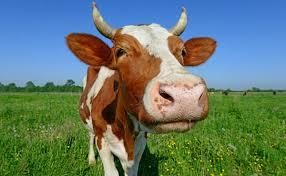cow: (68, 4, 218, 176)
